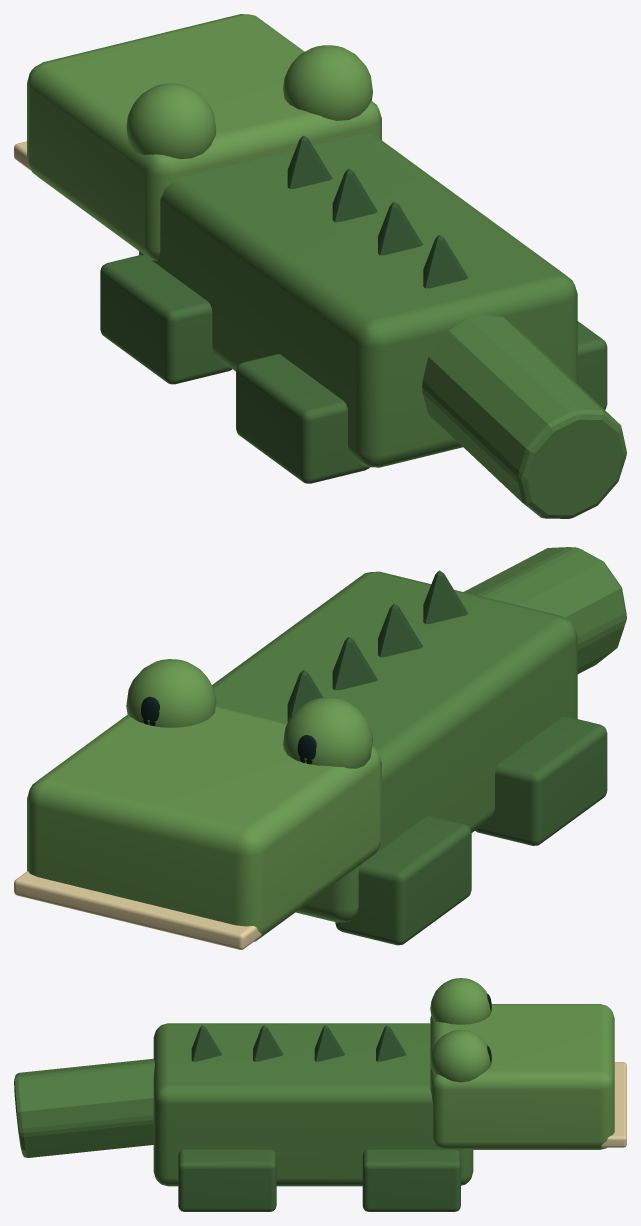
Rendered from crocodile.glb.
The picture shows the model from 3 angles, top to bottom: view 1: azimuth 30°, elevation 25°; view 2: azimuth 150°, elevation 25°; view 3: azimuth 270°, elevation 25°; orthographic projection. The views are drawn at different scales.
Parts seen in each view (by area): view 1: Croc body, Head, Tail, Leg, Leg.001, Eye mount, Eye mount.001, Leg.003, Spine.001, Spine.003, Spine, Spine.002; view 2: Head, Croc body, Leg, Leg.001, Tail, Mouth, Eye mount, Eye mount.001, Spine.001, Spine.003, Spine.002, Spine; view 3: Croc body, Head, Tail, Leg.002, Leg.003, Eye mount.001, Eye mount, Mouth, Spine.003, Spine.001, Spine, Spine.002.
Part boxes in pixels (bbox=[...]): Croc body: bbox=[139, 133, 577, 467]; Head: bbox=[27, 14, 381, 260]; Tail: bbox=[422, 315, 626, 518]; Leg: bbox=[100, 254, 232, 384]; Leg.001: bbox=[236, 354, 369, 483]; Eye mount: bbox=[126, 83, 216, 158]; Eye mount.001: bbox=[283, 45, 372, 120]; Leg.003: bbox=[577, 321, 607, 409]; Spine.001: bbox=[332, 168, 377, 222]; Spine.003: bbox=[423, 235, 468, 288]; Spine: bbox=[287, 135, 332, 188]; Spine.002: bbox=[378, 202, 422, 255]; Head: bbox=[27, 706, 381, 941]; Croc body: bbox=[212, 571, 577, 922]; Leg: bbox=[335, 815, 471, 945]; Leg.001: bbox=[475, 716, 607, 845]; Tail: bbox=[464, 547, 626, 673]; Mouth: bbox=[14, 871, 261, 949]; Eye mount: bbox=[283, 697, 372, 768]; Eye mount.001: bbox=[126, 659, 216, 727]; Spine.001: bbox=[332, 637, 377, 690]; Spine.003: bbox=[423, 570, 468, 624]; Spine.002: bbox=[378, 603, 422, 657]; Spine: bbox=[287, 670, 323, 721]; Croc body: bbox=[153, 1023, 473, 1186]; Head: bbox=[430, 1004, 614, 1149]; Tail: bbox=[14, 1058, 154, 1157]; Leg.002: bbox=[362, 1149, 460, 1211]; Leg.003: bbox=[178, 1149, 276, 1211]; Eye mount.001: bbox=[430, 1030, 490, 1082]; Eye mount: bbox=[430, 978, 490, 1024]; Mouth: bbox=[601, 1062, 626, 1147]; Spine.003: bbox=[191, 1025, 221, 1061]; Spine.001: bbox=[314, 1025, 344, 1061]; Spine: bbox=[376, 1025, 406, 1061]; Spine.002: bbox=[253, 1025, 283, 1061].
Size of the model in its own units: 1.95 by 1.4 by 4.99.
